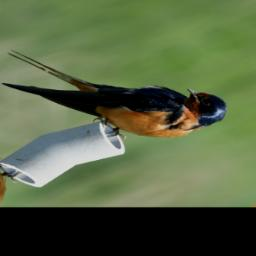Swallow: (0, 6, 243, 169)
